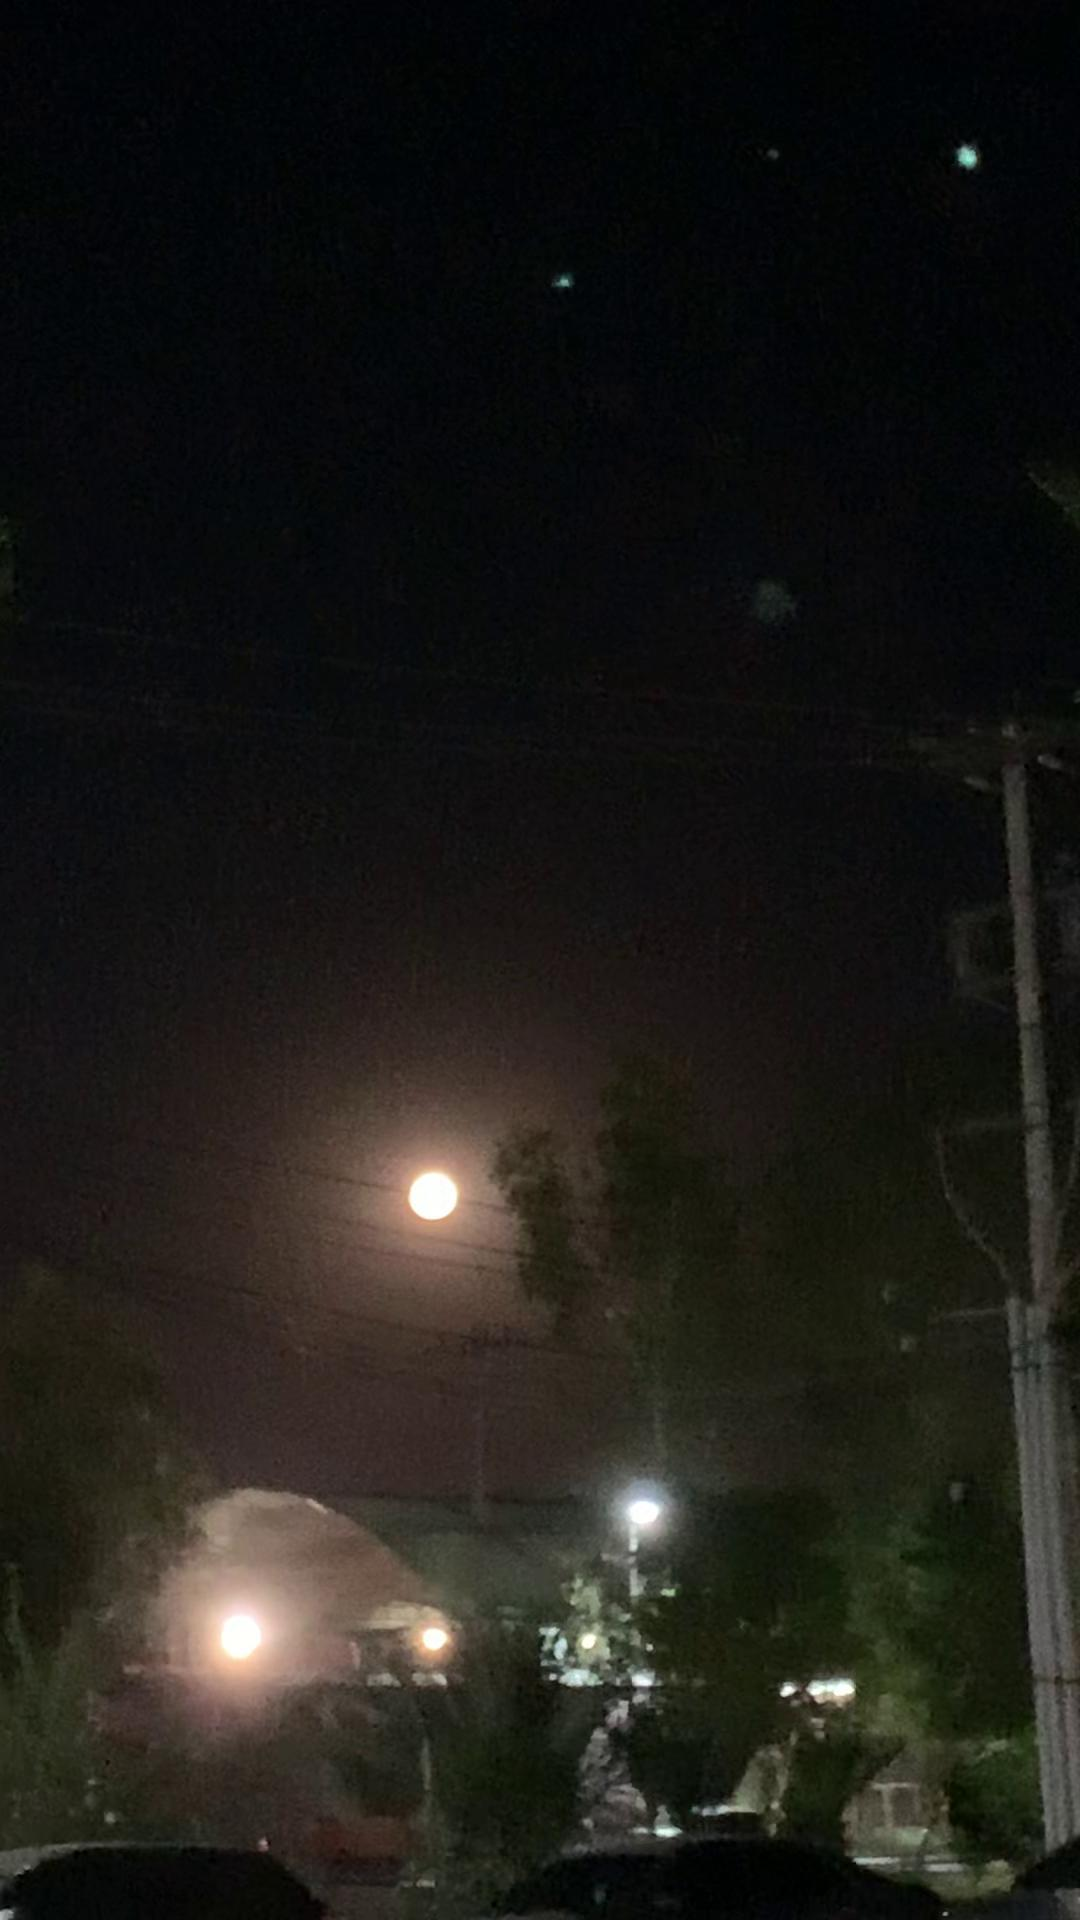moon: (386, 1143, 475, 1218)
